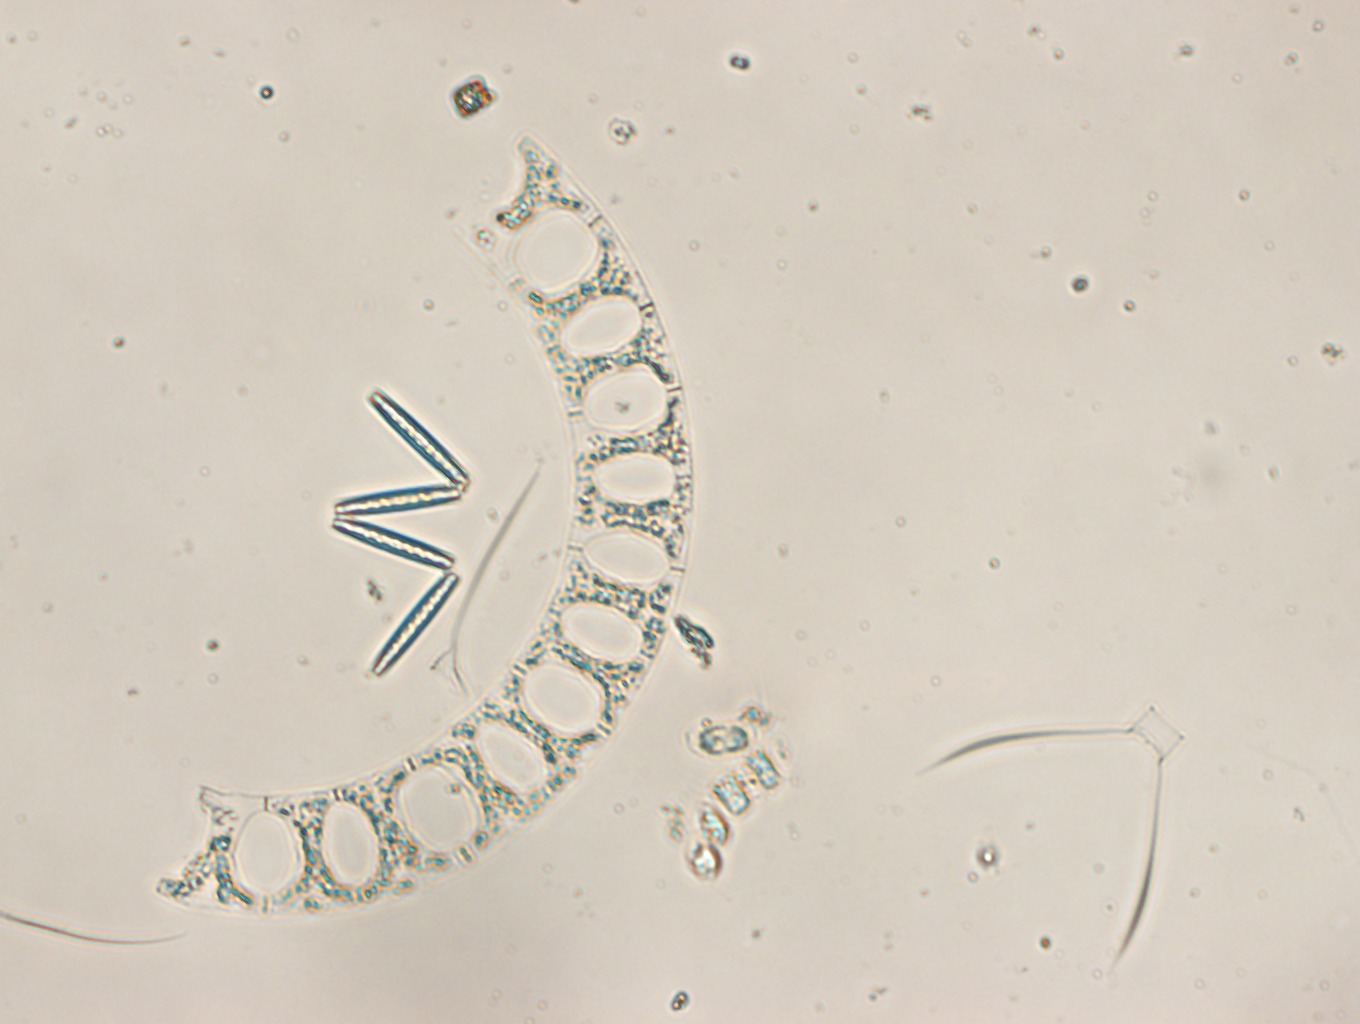chaetoceros: (920, 705, 1183, 965)
eucampia: (156, 133, 693, 918)
thalassionema nitzschioides: (331, 386, 474, 680)
